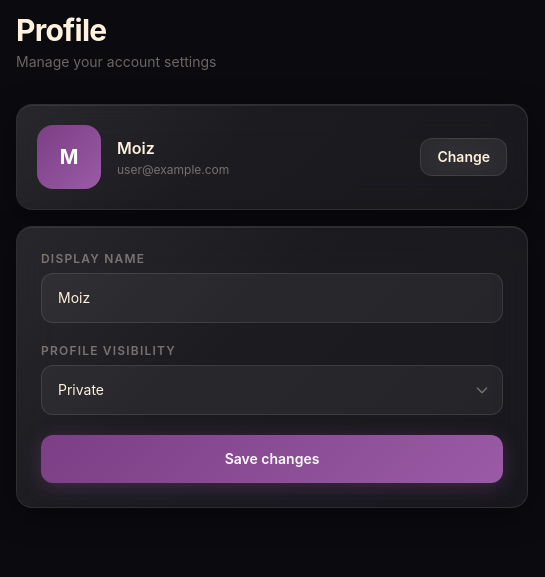
Test case: ProfilePage › shows error message when save fails
Check: the field showing "Moiz" is shown, box [41,273,503,323]
What coordinates should you click on to do the following:
click the button "Save changes"
I would click on:
 (272, 459)
Its box is [41,435,503,483].
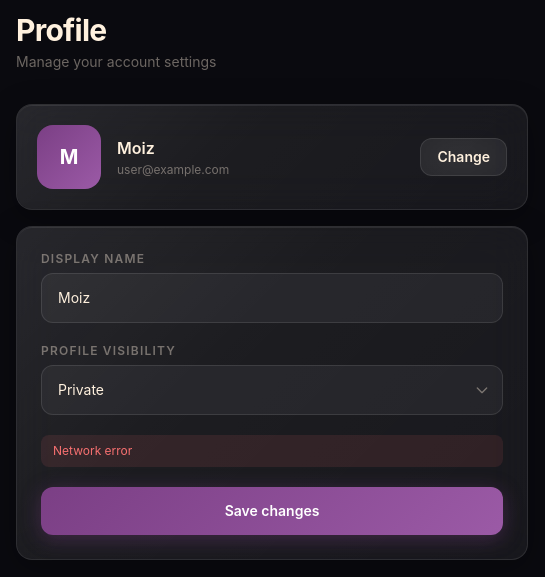
Check: the message reads "Network error", box [53,443,132,458]
